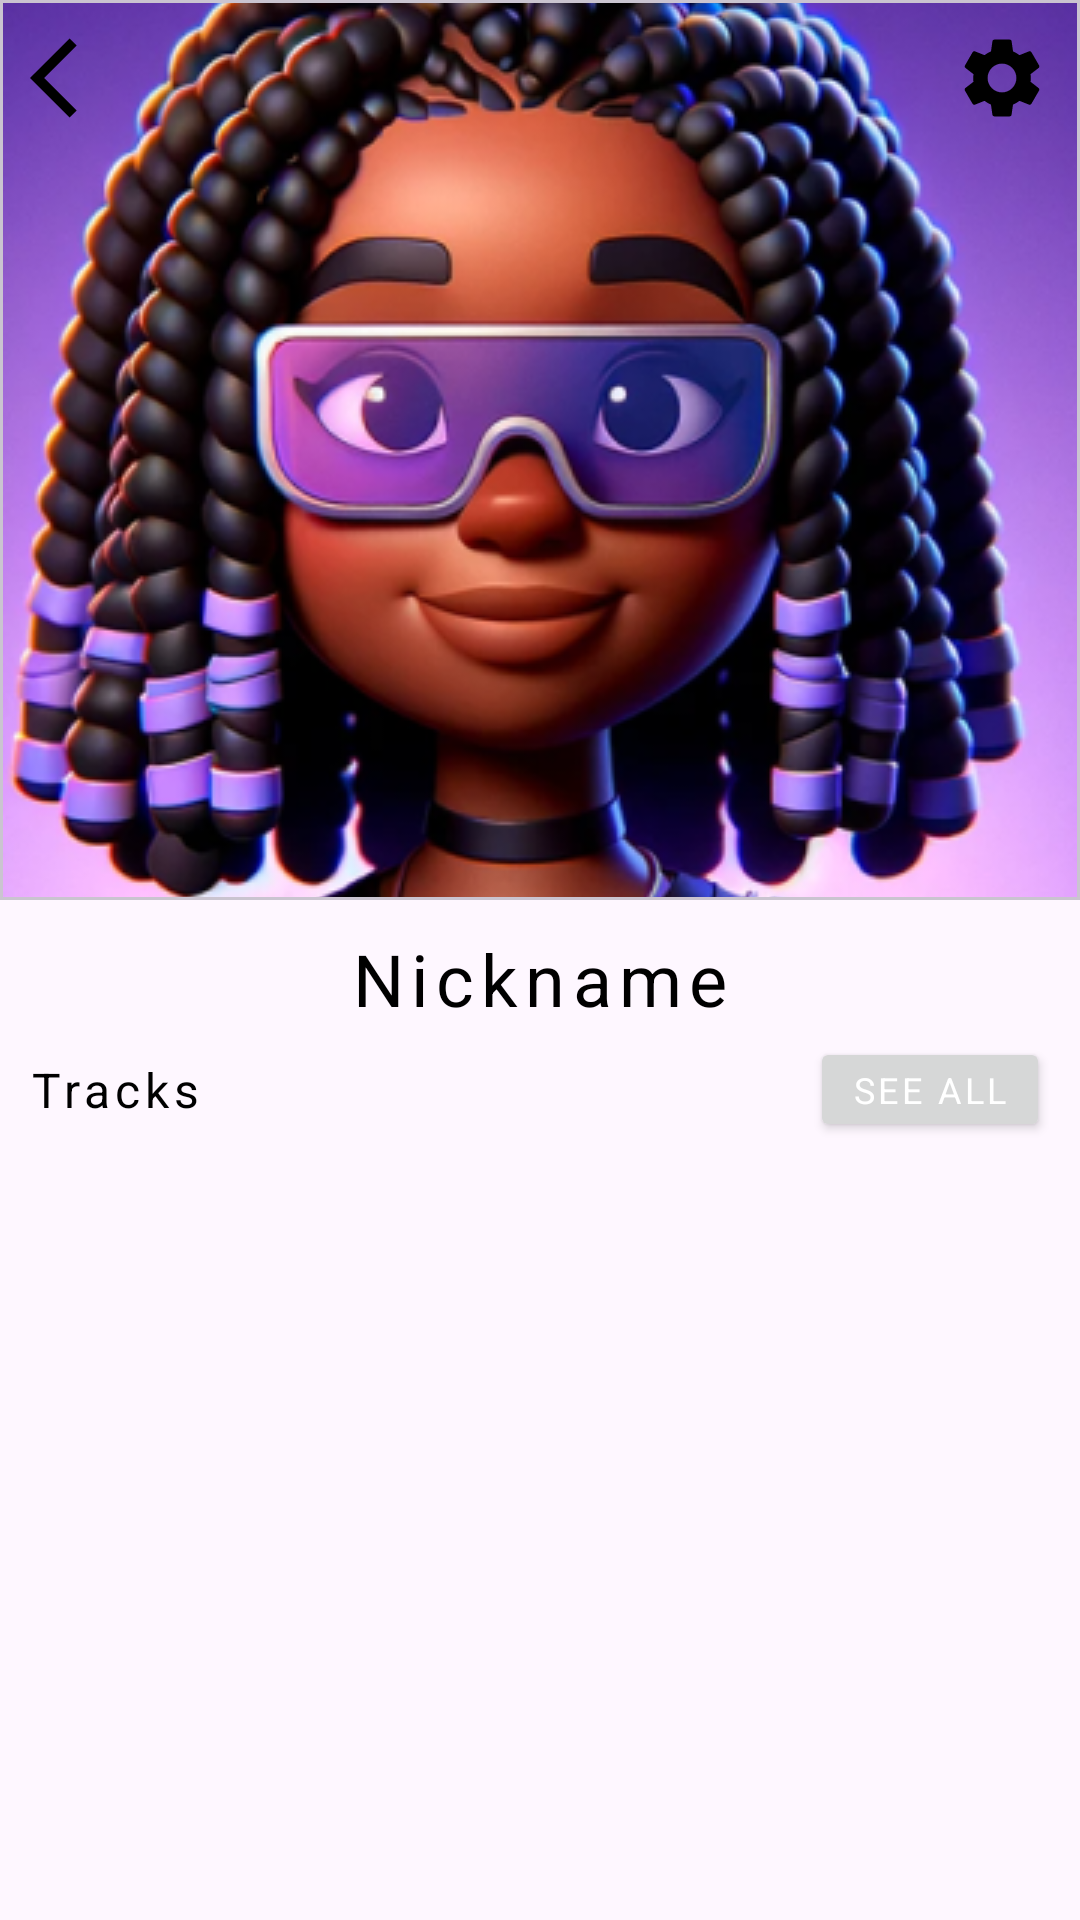

Screen size 1080px×1920px. Icon name, then its box in pixels as (x1, y1, x2, y2):
arrow back: (30, 38, 77, 118)
settings: (964, 39, 1040, 117)
